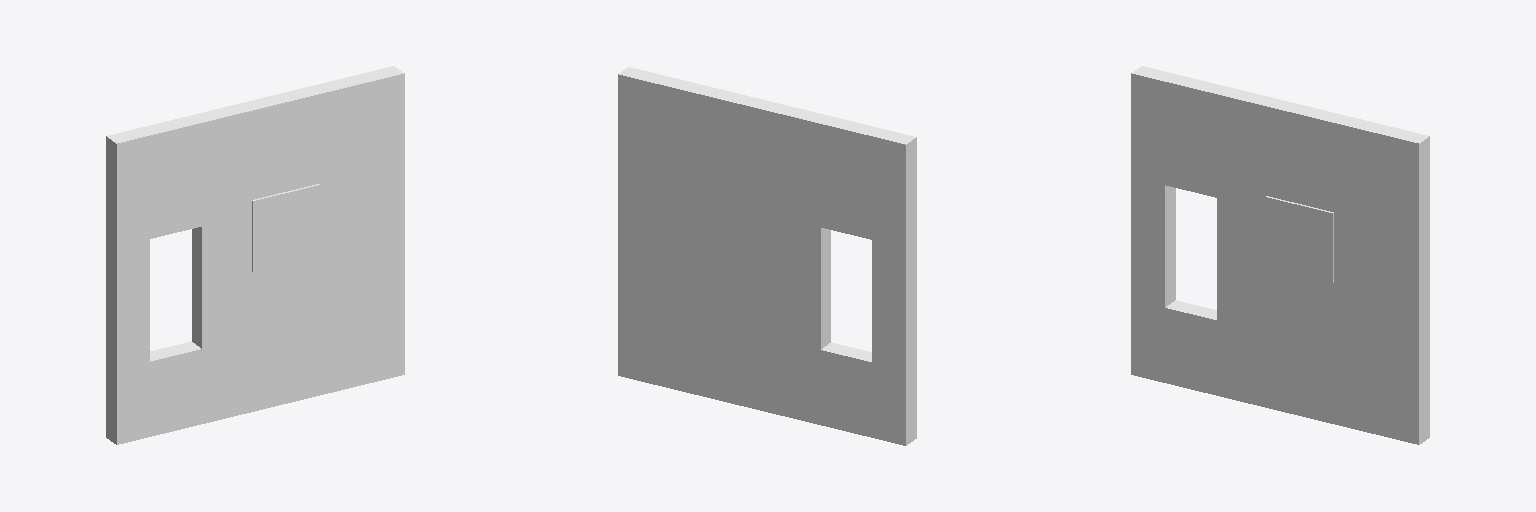
File: Character_room-5-Pared02.obj
3 renders of one model, left to right at view 1: azimuth 30°, elevation 25°; view 2: azimuth 150°, elevation 25°; view 3: azimuth 330°, elevation 25°, orthographic.
Parts seen in each view (by area): view 1: Pared02; view 2: Pared02; view 3: Pared02.
Boxes of the visible parts, box(x1,y1,x2,y2) form: Pared02: box(106, 66, 404, 444); Pared02: box(618, 67, 916, 445); Pared02: box(1131, 66, 1429, 444).
Size of the model in its own units: 12.8 by 12.8 by 0.9.